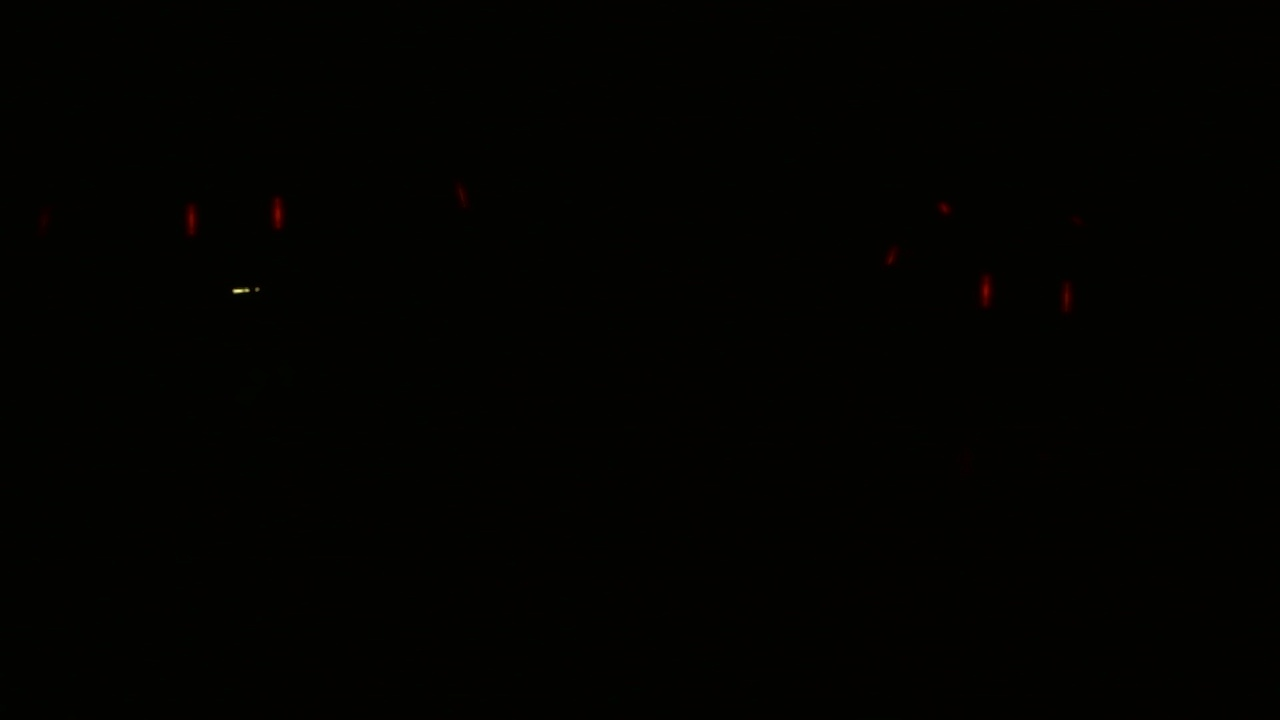pair1: (977, 275, 1077, 325), (181, 196, 288, 237)
